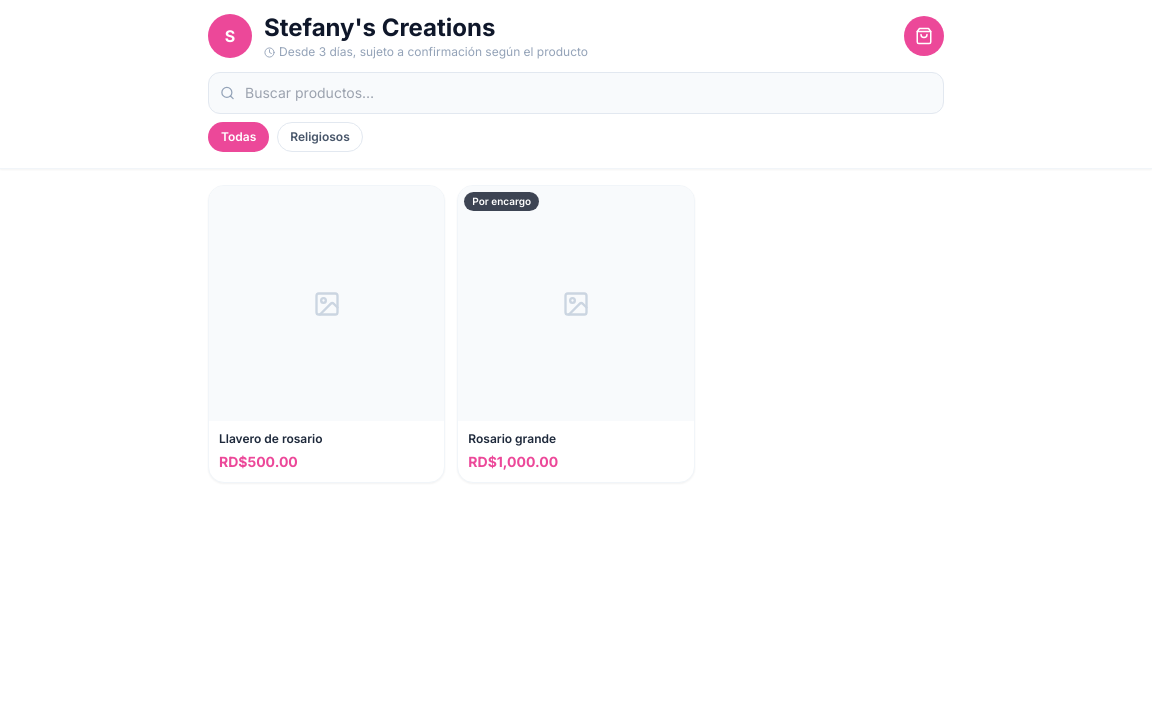
CatalogView — carrito público › un producto agotado con encargo permitido se puede agregar y queda marcado
Click the text "Rosario grande" at (512,439), box x1=468 y1=431 x2=556 y2=446
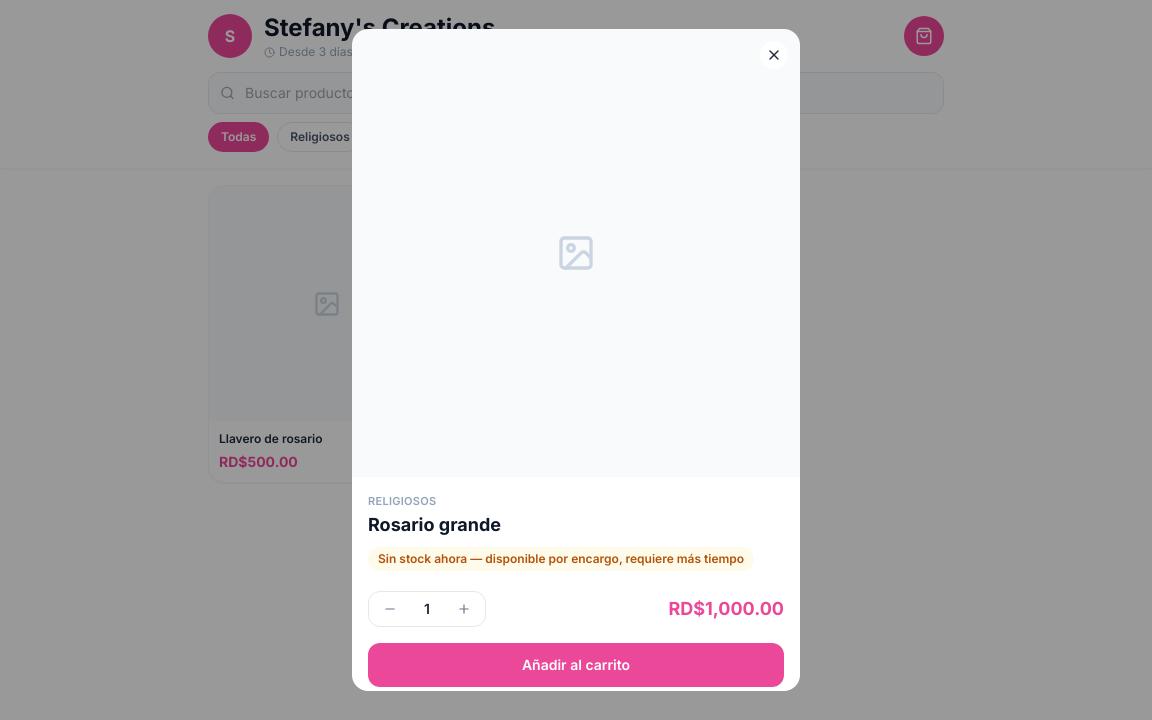
Check: the text "disponible por encargo" is shown, box x1=378 y1=551 x2=744 y2=566
Click the button "Añadir al carrito" at (576,665), box x1=368 y1=643 x2=784 y2=687
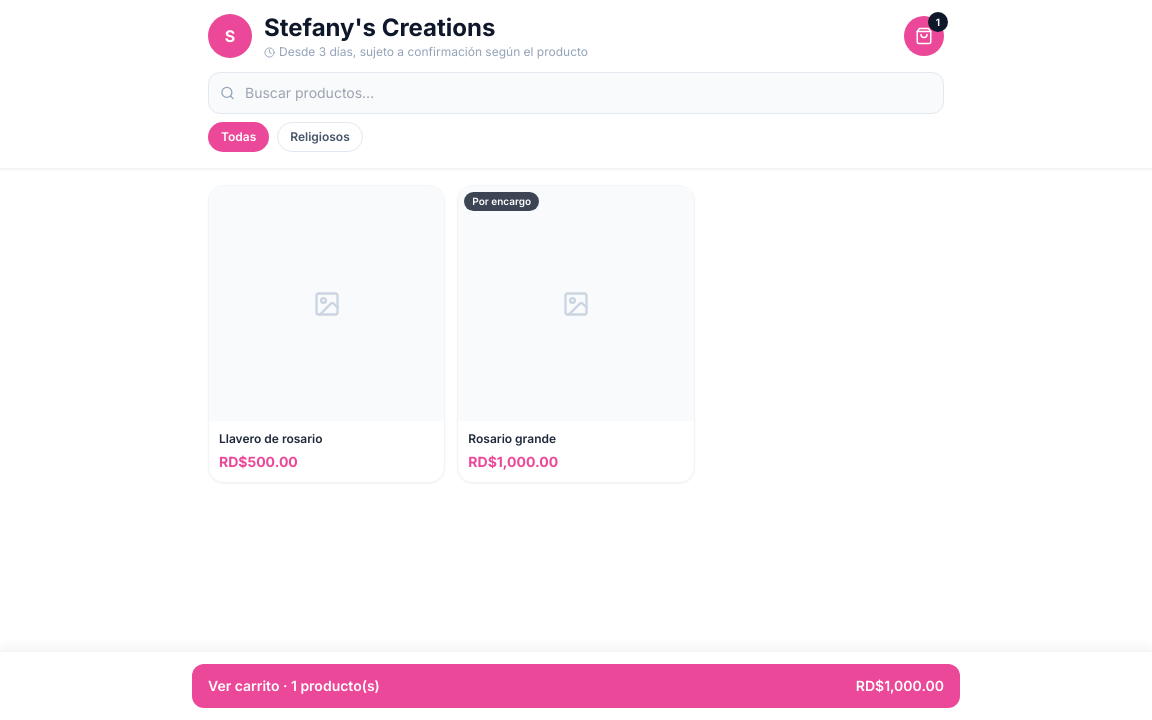
Click the button "Ver carrito · 1 producto(s) RD$1,000.00" at (249,686), box x1=192 y1=664 x2=960 y2=708
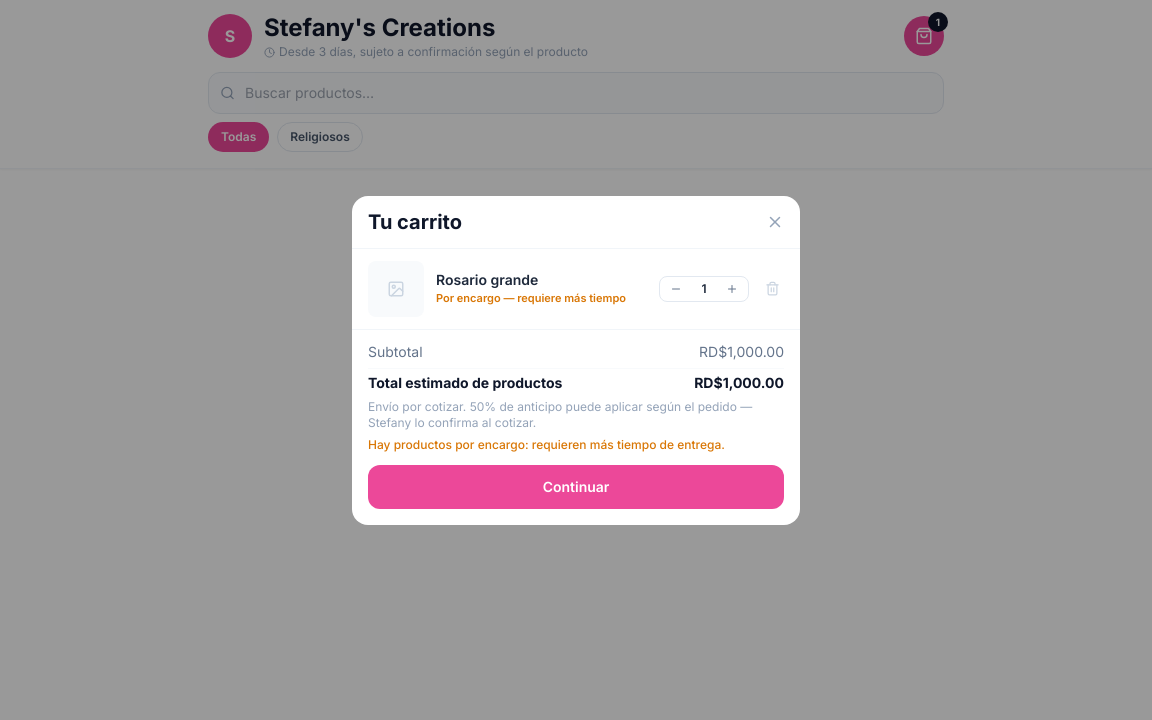
Check: the text "Por encargo — requiere más tiempo" is shown, box x1=436 y1=290 x2=647 y2=307
